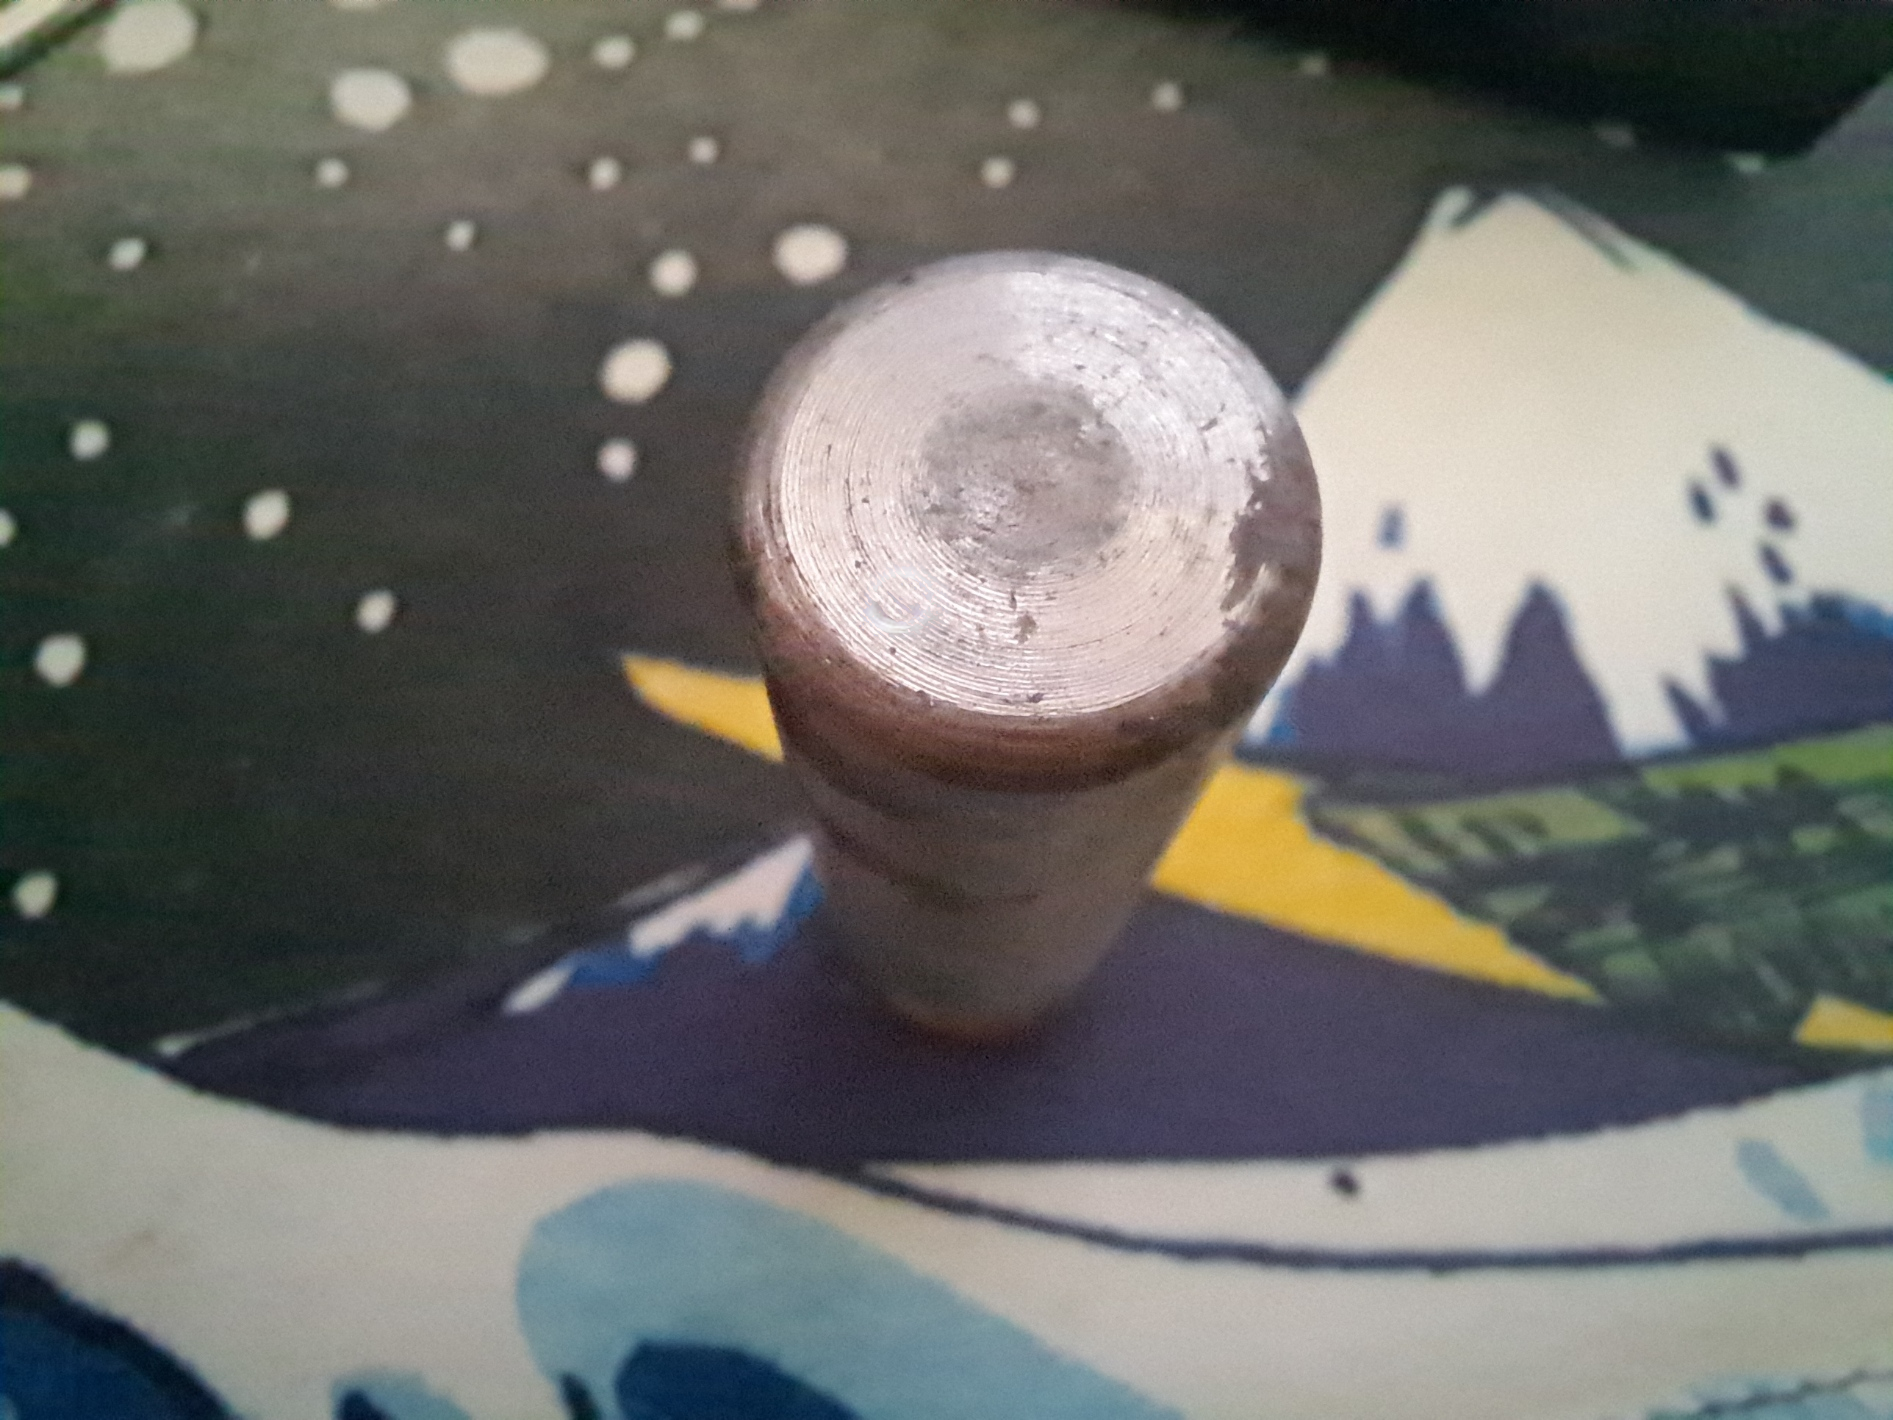плансон: (731, 249, 1320, 1050)
повреждение: (864, 561, 943, 637)
